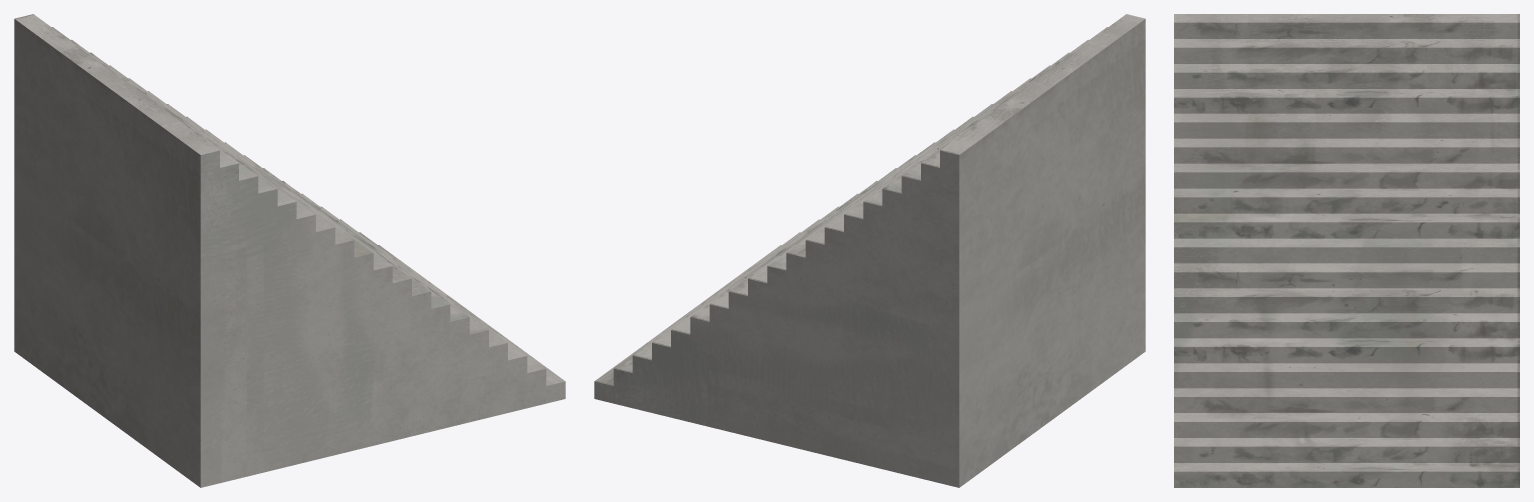
The model's file is stair_01.fbx.
3 views of the same model, side by side, from view 1: azimuth 30°, elevation 25°; view 2: azimuth 150°, elevation 25°; view 3: azimuth 270°, elevation 25° (orthographic). The views are drawn at different scales.
Visible parts, largest first — view 1: StraightStair003; view 2: StraightStair003; view 3: StraightStair003.
Boxes of the visible parts, x1,y1,x2,y2 form: StraightStair003: (14, 14, 565, 487); StraightStair003: (594, 14, 1145, 487); StraightStair003: (1174, 14, 1519, 487).
Bounding box in the file's own units: 594 × 518 × 526.
